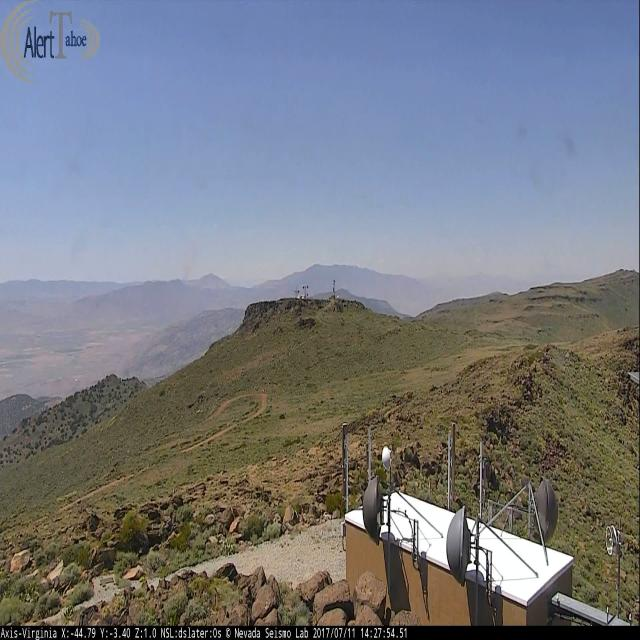smoke: (179, 236, 197, 281)
